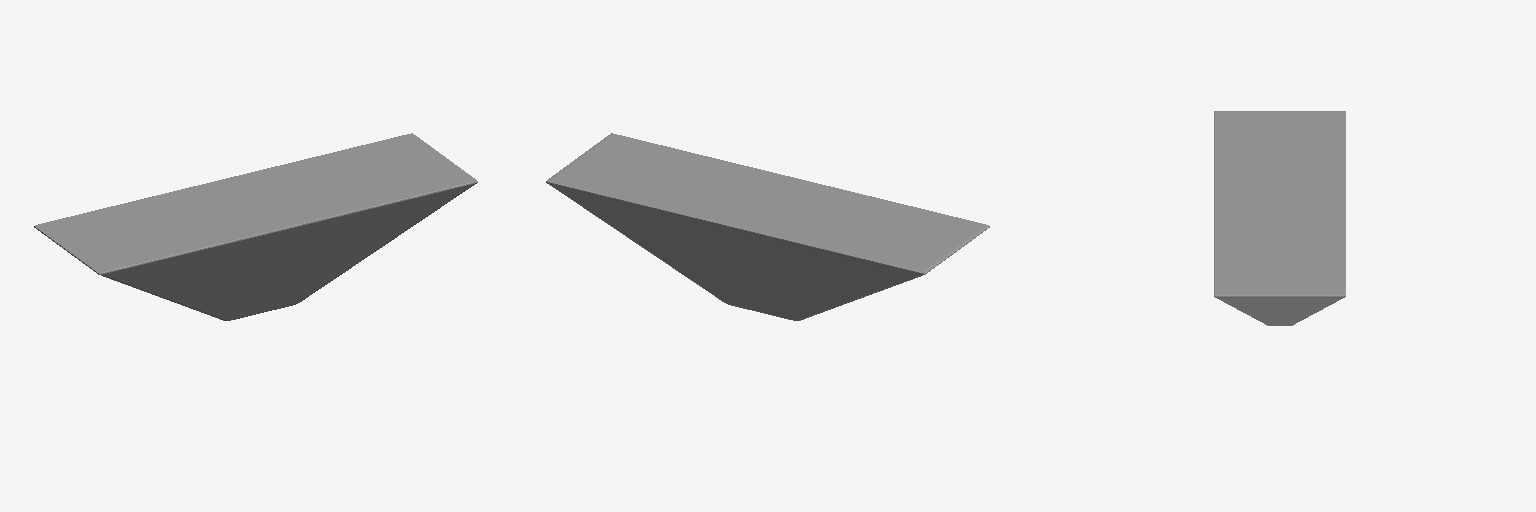
File: table.obj
The picture shows the model from 3 angles: view 1: azimuth 30°, elevation 25°; view 2: azimuth 150°, elevation 25°; view 3: azimuth 270°, elevation 25°; orthographic projection.
Visible parts, largest first — view 1: table_Haymann_Lythos_Coffee_Table_mat1.001; view 2: table_Haymann_Lythos_Coffee_Table_mat1.001; view 3: table_Haymann_Lythos_Coffee_Table_mat1.001.
Boxes of the visible parts, box(x1,y1,x2,y2) form: table_Haymann_Lythos_Coffee_Table_mat1.001: box(34, 133, 477, 320); table_Haymann_Lythos_Coffee_Table_mat1.001: box(546, 133, 989, 320); table_Haymann_Lythos_Coffee_Table_mat1.001: box(1214, 111, 1345, 325).
Bounding box in the file's own units: 1.75 × 0.4657 × 0.5264.